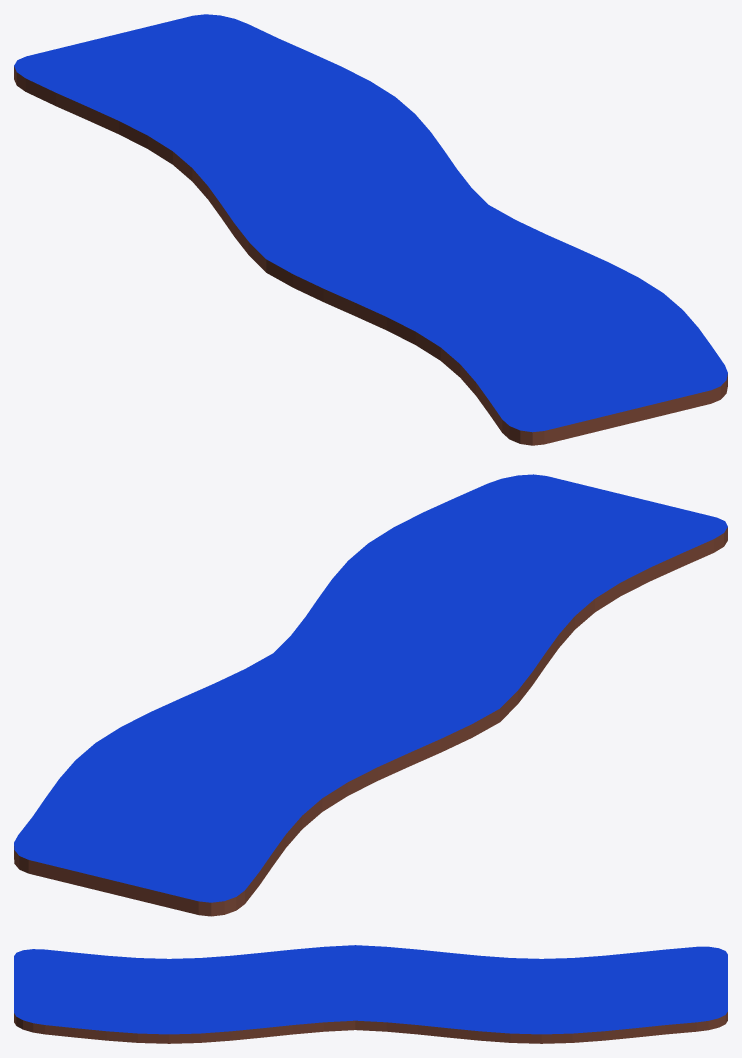
The model's file is river-a.glb.
3 views of the same model, one above another, from view 1: azimuth 30°, elevation 25°; view 2: azimuth 150°, elevation 25°; view 3: azimuth 270°, elevation 25° (orthographic). The views are drawn at different scales.
Visible parts, largest first — view 1: Plane.001; view 2: Plane.001; view 3: Plane.001.
Part boxes in pixels (x1,y1,x2,y2): Plane.001: (14,14,727,445); Plane.001: (14,474,727,916); Plane.001: (14,945,727,1043).
Size of the model in its own units: 0.5922 by 0.0291 by 2.
